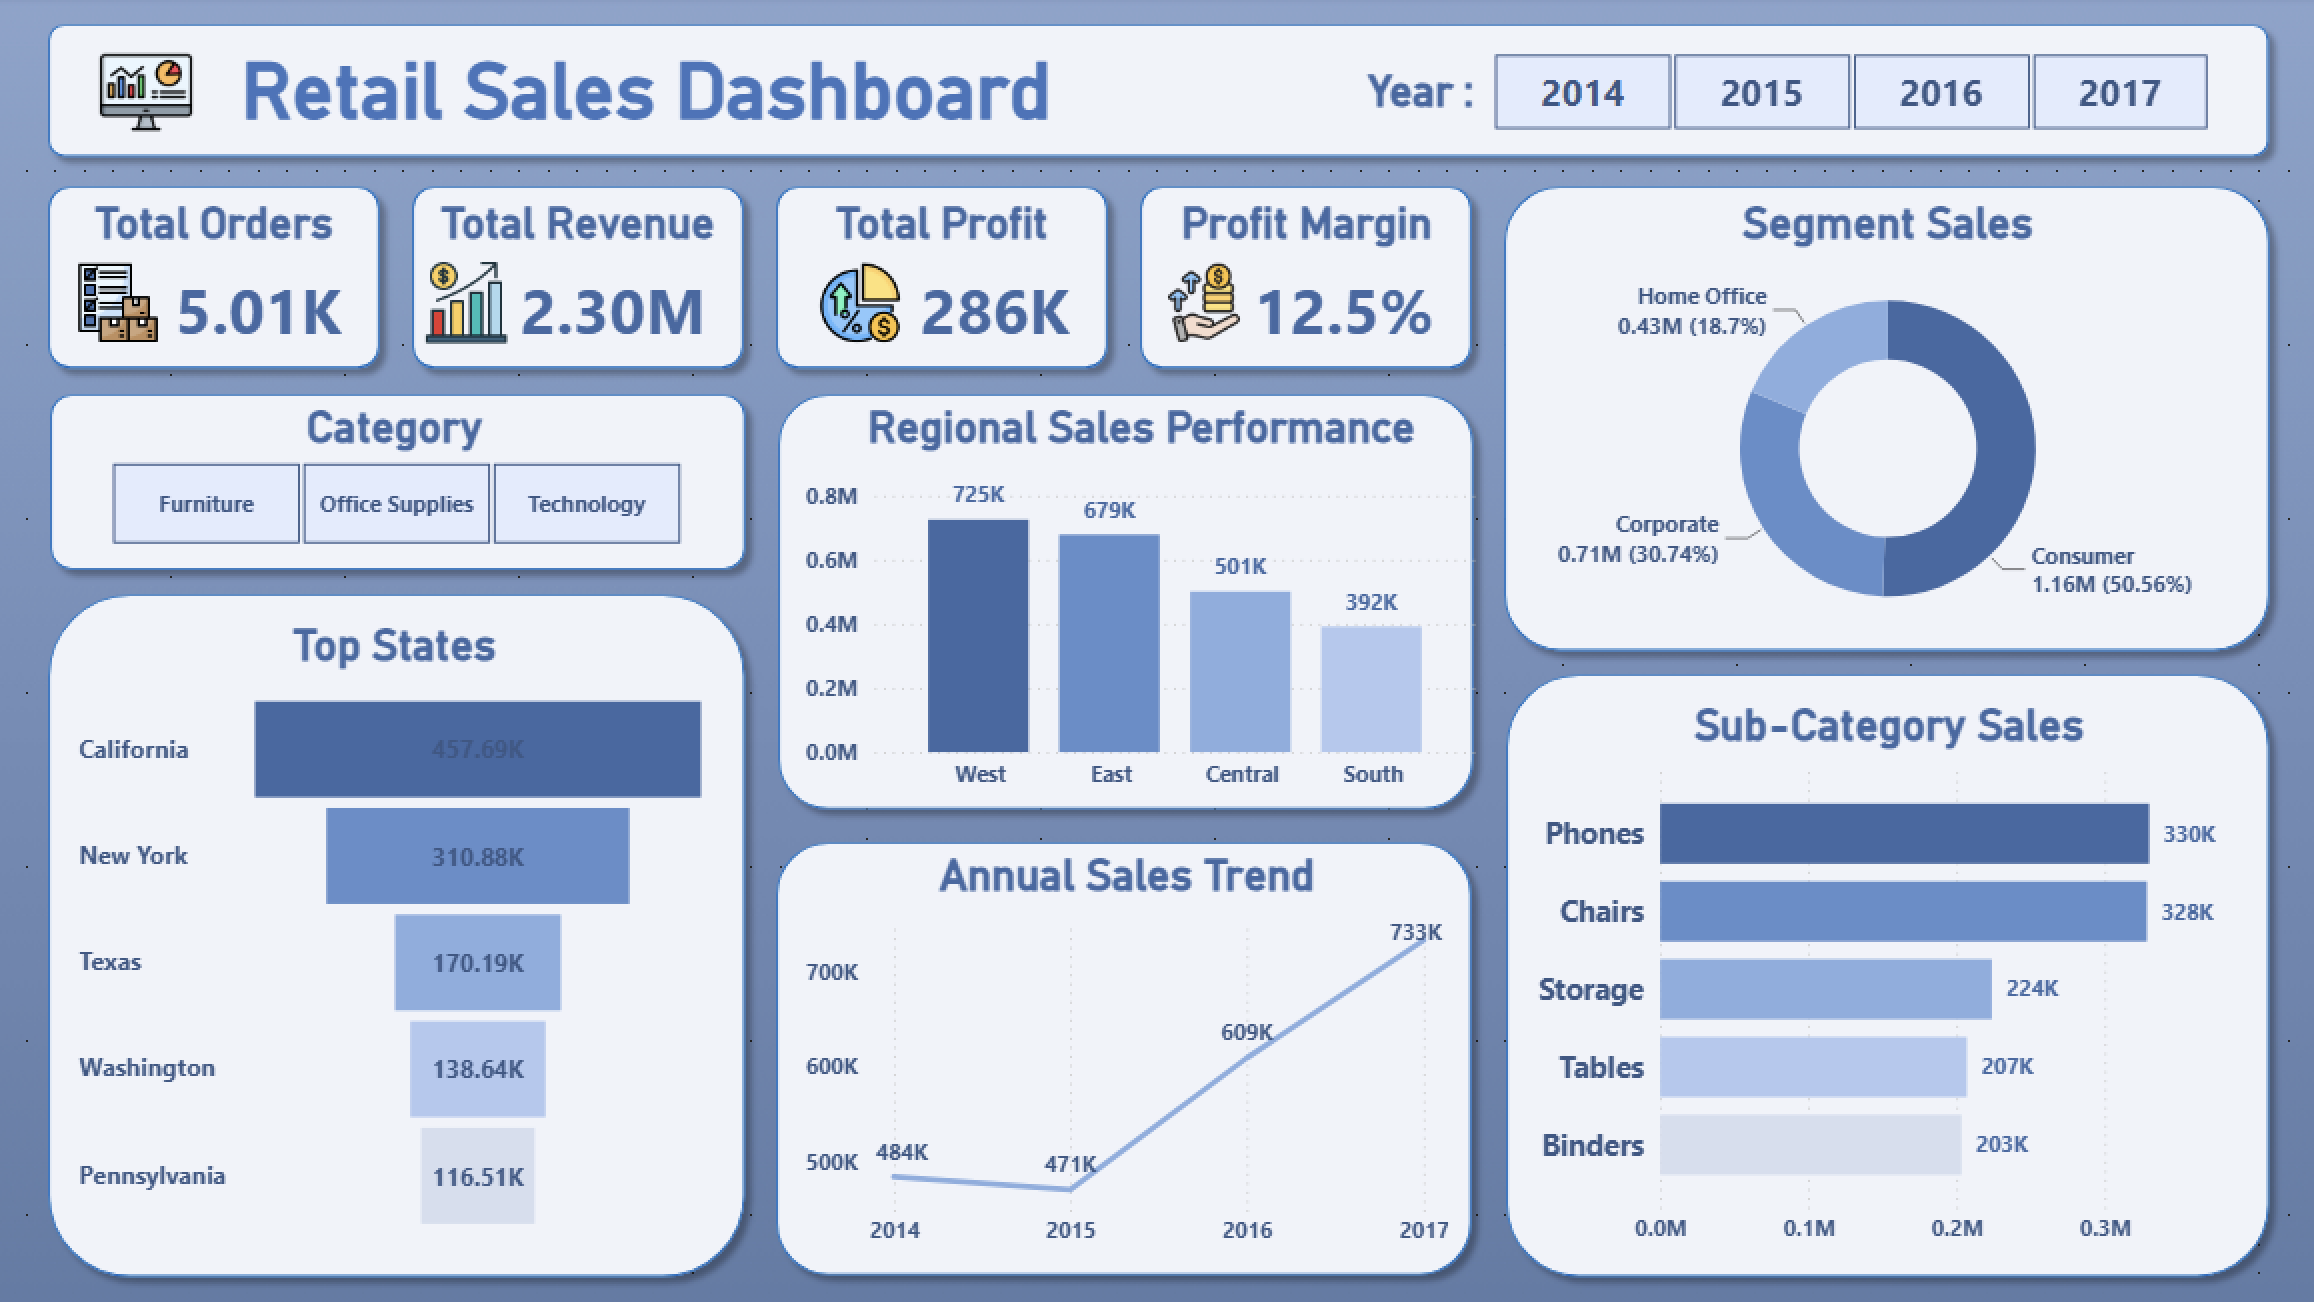

The page's visual inventory and layout, read from the dashboard file:
{"tool":"powerbi","page":{"name":"Page 1","canvas":[1280,720],"ordinal":0},"visuals":[{"type":"shape","box":[19.9,6.2,1243,91],"z":0},{"type":"textbox","box":[93.5,22.4,529.9,62.3],"z":1000},{"type":"shape","box":[19.9,96,200.7,118.4],"z":2000},{"type":"cardVisual","title":"Total Orders","fields":{"Data":["All Measures.Total Orders"]},"box":[19.9,111,200.7,93.5],"z":3000},{"type":"shape","box":[220.7,96,200.7,118.4],"z":4000},{"type":"shape","box":[421.4,96,200.7,118.4],"z":5000},{"type":"shape","box":[622.1,96,200.7,118.4],"z":6000},{"type":"cardVisual","title":"Total Revenue","fields":{"Data":["All Measures.Total Sales"]},"box":[220.7,111,200.7,93.5],"z":7000},{"type":"cardVisual","title":"Total Profit","fields":{"Data":["All Measures.Total Profit"]},"box":[421.4,111,200.7,93.5],"z":8000},{"type":"cardVisual","title":"Profit Margin","fields":{"Data":["All Measures.Profit Margin"]},"box":[623.4,111,199.5,93.5],"z":9000},{"type":"shape","box":[822.9,96,440.1,274.3],"z":10000},{"type":"shape","box":[422.6,210.7,401.5,246.9],"z":11000},{"type":"columnChart","title":"Regional Sales Performance","fields":{"Category":["superstore_cleaned.region"],"Y":["All Measures.Total Sales"]},"box":[441.4,224.4,381.5,223.2],"z":12000},{"type":"donutChart","title":"Segment Sales","fields":{"Category":["superstore_cleaned.segment"],"Y":["All Measures.Total Sales"]},"box":[832.8,111,421.4,249.4],"z":13000},{"type":"shape","box":[824.1,365.3,438.9,350.3],"z":14000},{"type":"clusteredBarChart","title":"Sub-Category Sales","fields":{"Category":["superstore_cleaned.sub_category"],"Y":["All Measures.Total Sales"]},"box":[844.2,388.6,400.8,309.3],"z":15000},{"type":"shape","box":[421.4,457.6,401.5,256.8],"z":16000},{"type":"lineChart","title":"Annual Sales Trend","fields":{"Y":["All Measures.Total Sales"],"Category":["superstore_cleaned.order_date.Variation.Date Hierarchy.Year","superstore_cleaned.order_date.Variation.Date Hierarchy.Quarter","superstore_cleaned.order_date.Variation.Date Hierarchy.Month","superstore_cleaned.order_date.Variation.Date Hierarchy.Day"]},"box":[441.4,471.3,365.3,228.2],"z":17000},{"type":"shape","box":[19.8,321.5,402.3,394.7],"z":18000},{"type":"funnel","title":"Top States","fields":{"Category":["superstore_cleaned.state"],"Y":["All Measures.Total Sales"]},"box":[41.1,344.4,358.1,350.5],"z":19000},{"type":"slicer","fields":{"Values":["superstore_cleaned.year"]},"box":[801.5,25.9,443.4,54.9],"z":20000},{"type":"textbox","box":[746.8,33.7,77.3,38.6],"z":21000},{"type":"shape","box":[21.2,210.7,401.5,114.7],"z":22000},{"type":"slicer","title":"Category","fields":{"Values":["superstore_cleaned.category"]},"box":[38.6,224.4,362.8,84.8],"z":23000},{"type":"image","box":[639.6,147.1,52.4,44.9],"z":23001},{"type":"image","box":[450.1,147.1,52.4,44.9],"z":23002},{"type":"image","box":[235.6,147.1,46.1,44.9],"z":23003},{"type":"image","box":[41.1,147.1,52.4,44.9],"z":23004},{"type":"image","box":[56.3,27.6,53,50.8],"z":23005}]}

Visuals, with their boxes in screenshot pixels (x1, y1, x2, y2), scaled from the page's 1280x720 canvas onto the 2314x1302 screenshot:
shape: crop(36, 11, 2283, 176)
textbox: crop(169, 41, 1127, 153)
shape: crop(36, 174, 399, 388)
"Total Orders" cardVisual: crop(36, 201, 399, 370)
shape: crop(399, 174, 762, 388)
shape: crop(762, 174, 1125, 388)
shape: crop(1125, 174, 1487, 388)
"Total Revenue" cardVisual: crop(399, 201, 762, 370)
"Total Profit" cardVisual: crop(762, 201, 1125, 370)
"Profit Margin" cardVisual: crop(1127, 201, 1488, 370)
shape: crop(1488, 174, 2283, 670)
shape: crop(764, 381, 1490, 827)
"Regional Sales Performance" columnChart: crop(798, 406, 1488, 809)
"Segment Sales" donutChart: crop(1506, 201, 2267, 652)
shape: crop(1490, 661, 2283, 1294)
"Sub-Category Sales" clusteredBarChart: crop(1526, 703, 2251, 1262)
shape: crop(762, 827, 1488, 1292)
"Annual Sales Trend" lineChart: crop(798, 852, 1458, 1265)
shape: crop(36, 581, 763, 1295)
"Top States" funnel: crop(74, 623, 722, 1257)
slicer - superstore_cleaned.year: crop(1449, 47, 2251, 146)
textbox: crop(1350, 61, 1490, 131)
shape: crop(38, 381, 764, 588)
"Category" slicer: crop(70, 406, 726, 559)
image: crop(1156, 266, 1251, 347)
image: crop(814, 266, 908, 347)
image: crop(426, 266, 509, 347)
image: crop(74, 266, 169, 347)
image: crop(102, 50, 198, 142)
